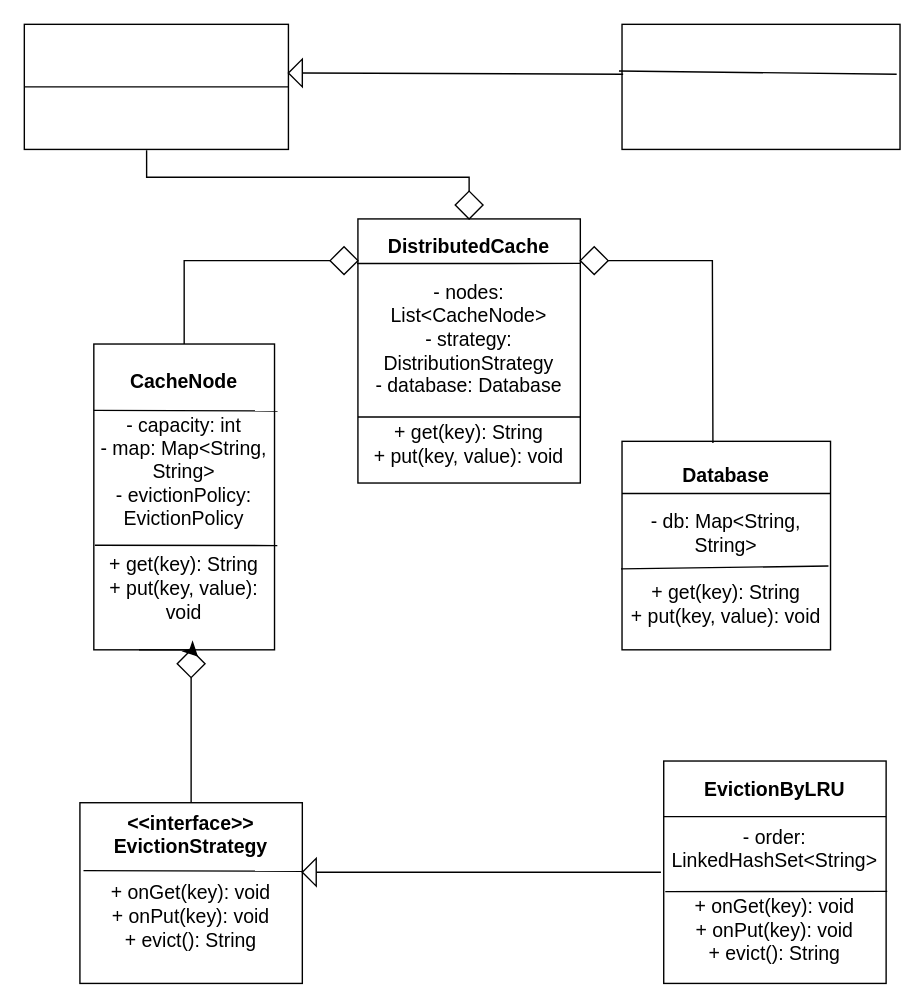
Some shapes in this 924 by 1008 pixel diagram are drawn without their labels. The box of each missing label's shape, as (x1, y1, x2, y2) in pixels:
<<interface>> DistributionStrategy + getNode(key, nodes): CacheNode: (23, 23, 288, 149)
ModuloDistribution + getNode(key, nodes): CacheNode: (621, 23, 900, 149)
